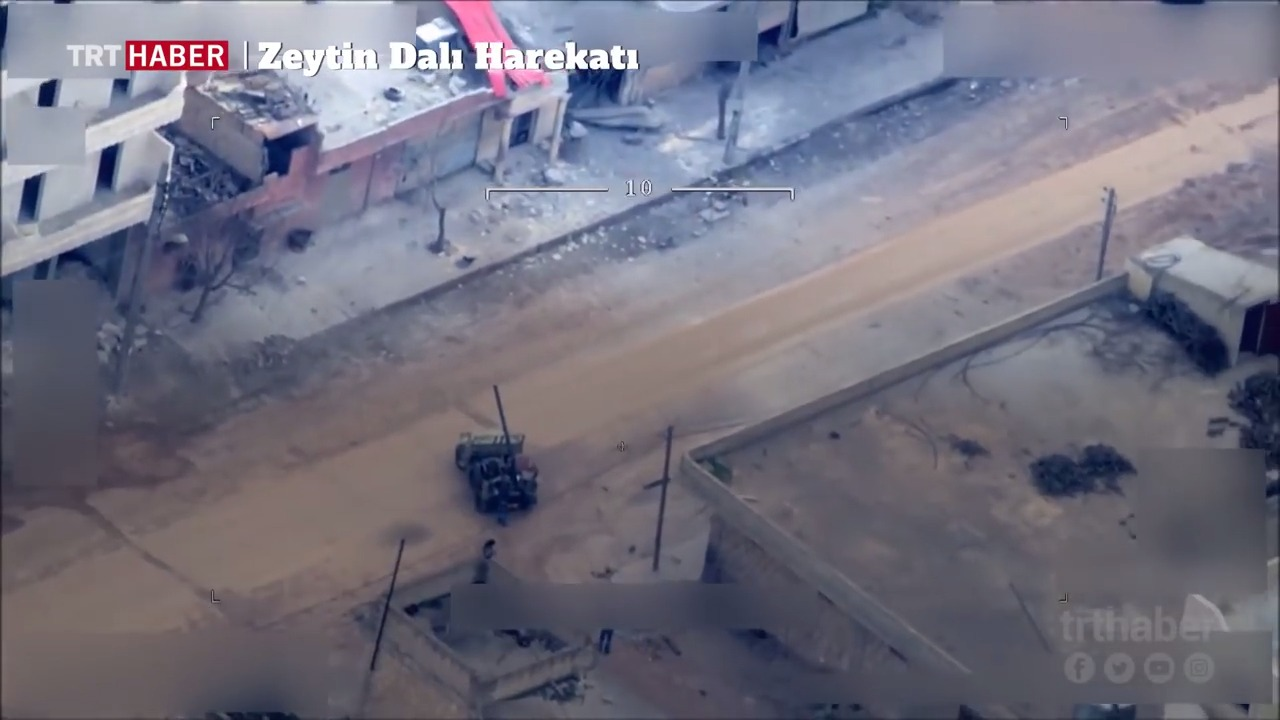arac: (449, 378, 543, 529)
